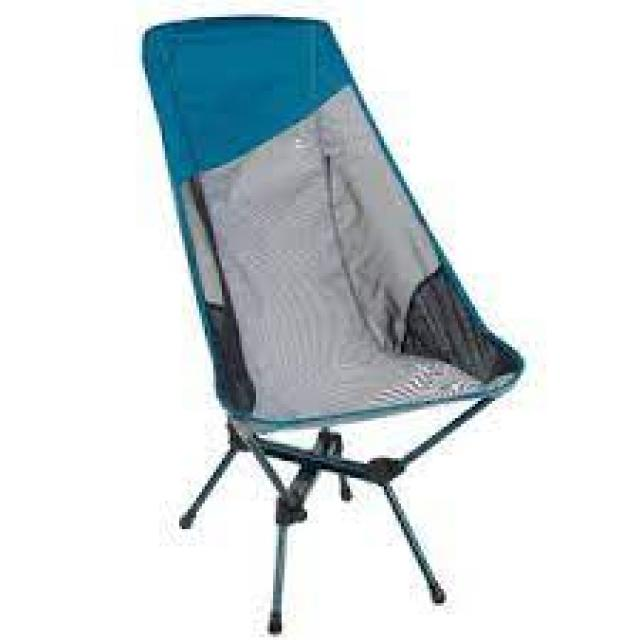chair: (136, 10, 525, 634)
